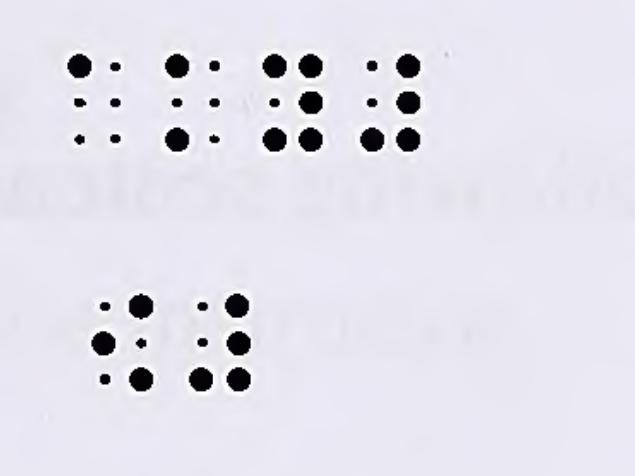letter_a: (66, 53, 121, 145)
letter_k: (163, 53, 221, 153)
letter_t: (361, 54, 421, 153)
letter_y: (263, 53, 324, 153)
one_cell_part_word_at: (187, 293, 251, 392)
one_cell_part_word_aw: (91, 293, 154, 392)
